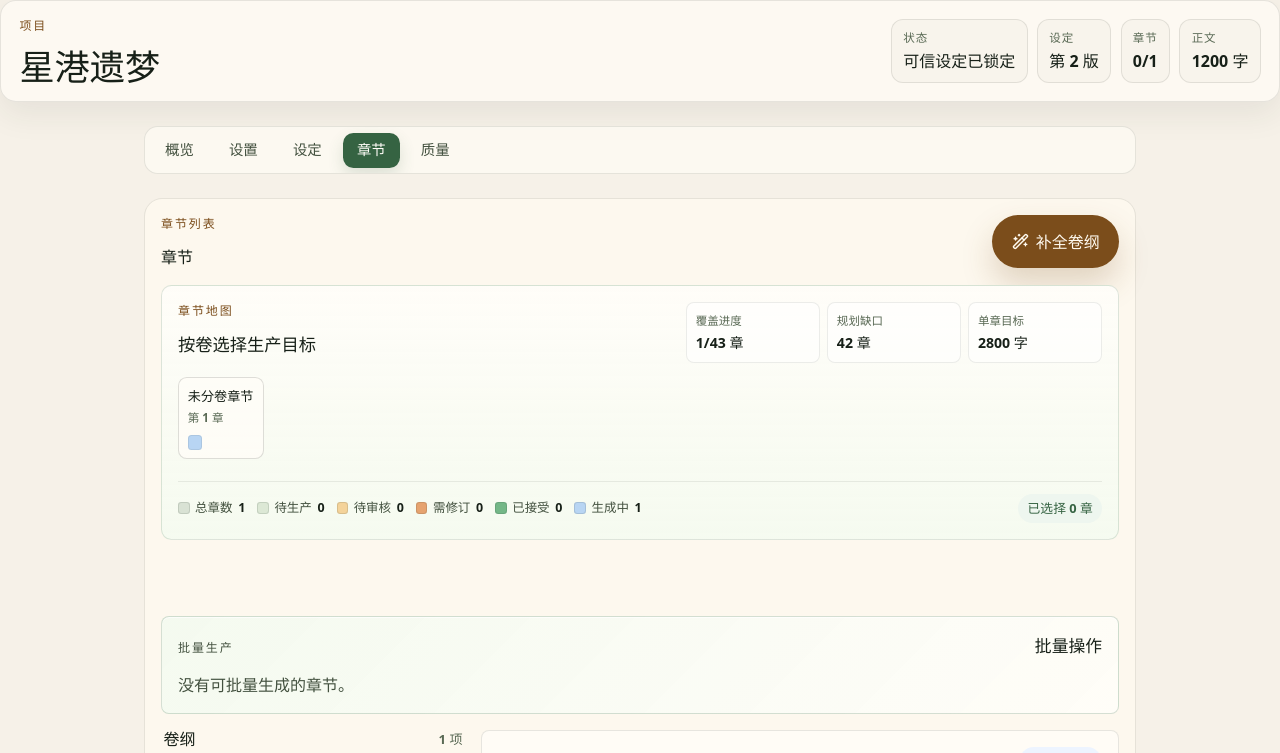
Scenario: shows animated waiting state while volume outline generation is pending
Click the button "补全卷纲".
click(1056, 242)  # box [992,215,1119,268]
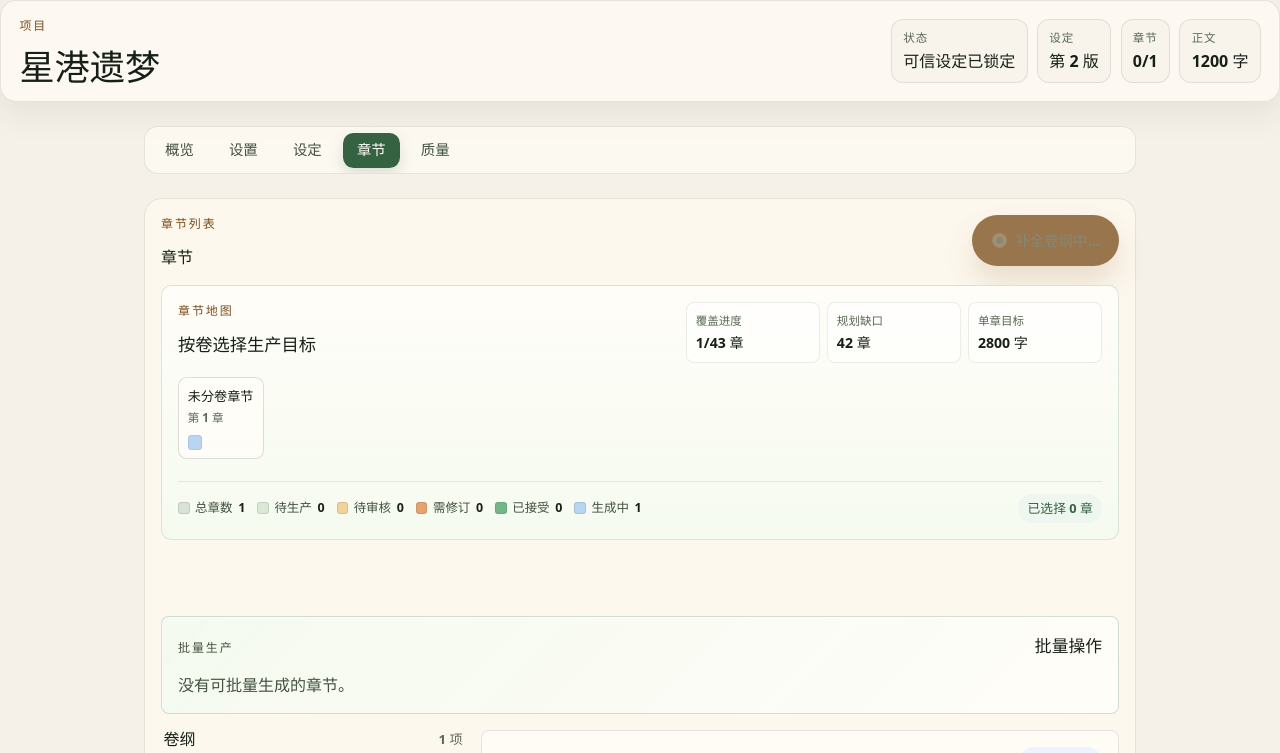
Expected: the element with test id "ai-waiting-indicator" reads "补全卷纲中...", [1016,231,1100,250]
Expected: the button "补全卷纲中..." is disabled, [972,215,1119,266]
